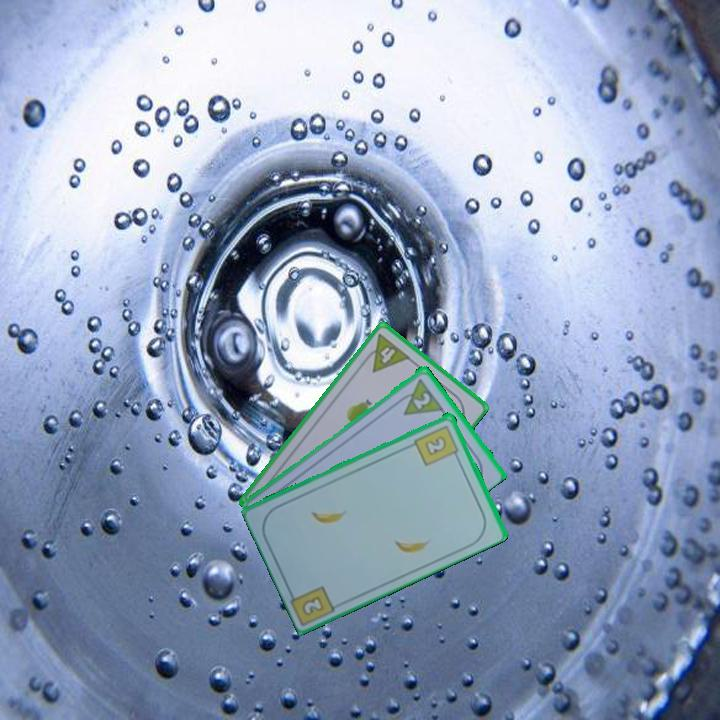2b: (411, 421, 462, 469), (298, 592, 327, 619)
2p: (392, 374, 445, 418)
4p: (358, 330, 413, 375)
